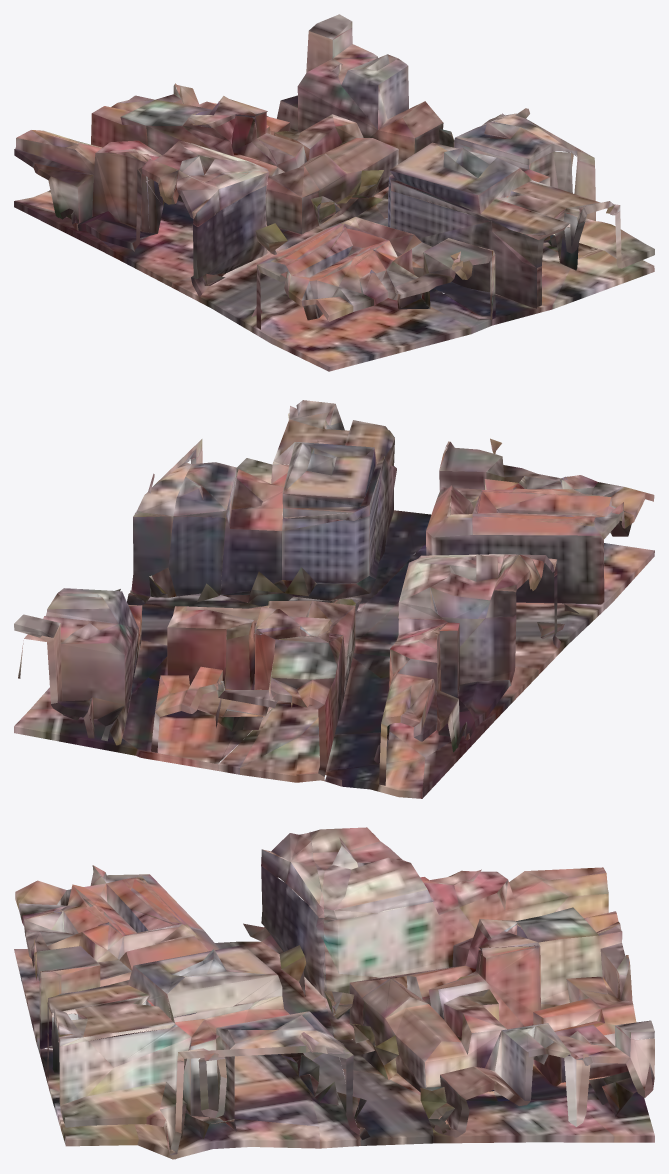
3 views of the same model, one above another, from view 1: azimuth 30°, elevation 25°; view 2: azimuth 150°, elevation 25°; view 3: azimuth 270°, elevation 25° (orthographic). The views are drawn at different scales.
Visible parts, largest first — view 1: Mesh_0; view 2: Mesh_0; view 3: Mesh_0.
Boxes of the visible parts, x1,y1,x2,y2 form: Mesh_0: [14, 14, 654, 371]; Mesh_0: [14, 400, 654, 798]; Mesh_0: [14, 827, 654, 1159].
Size of the model in its own units: 133 by 41.34 by 165.
1 material, 1 textured.
